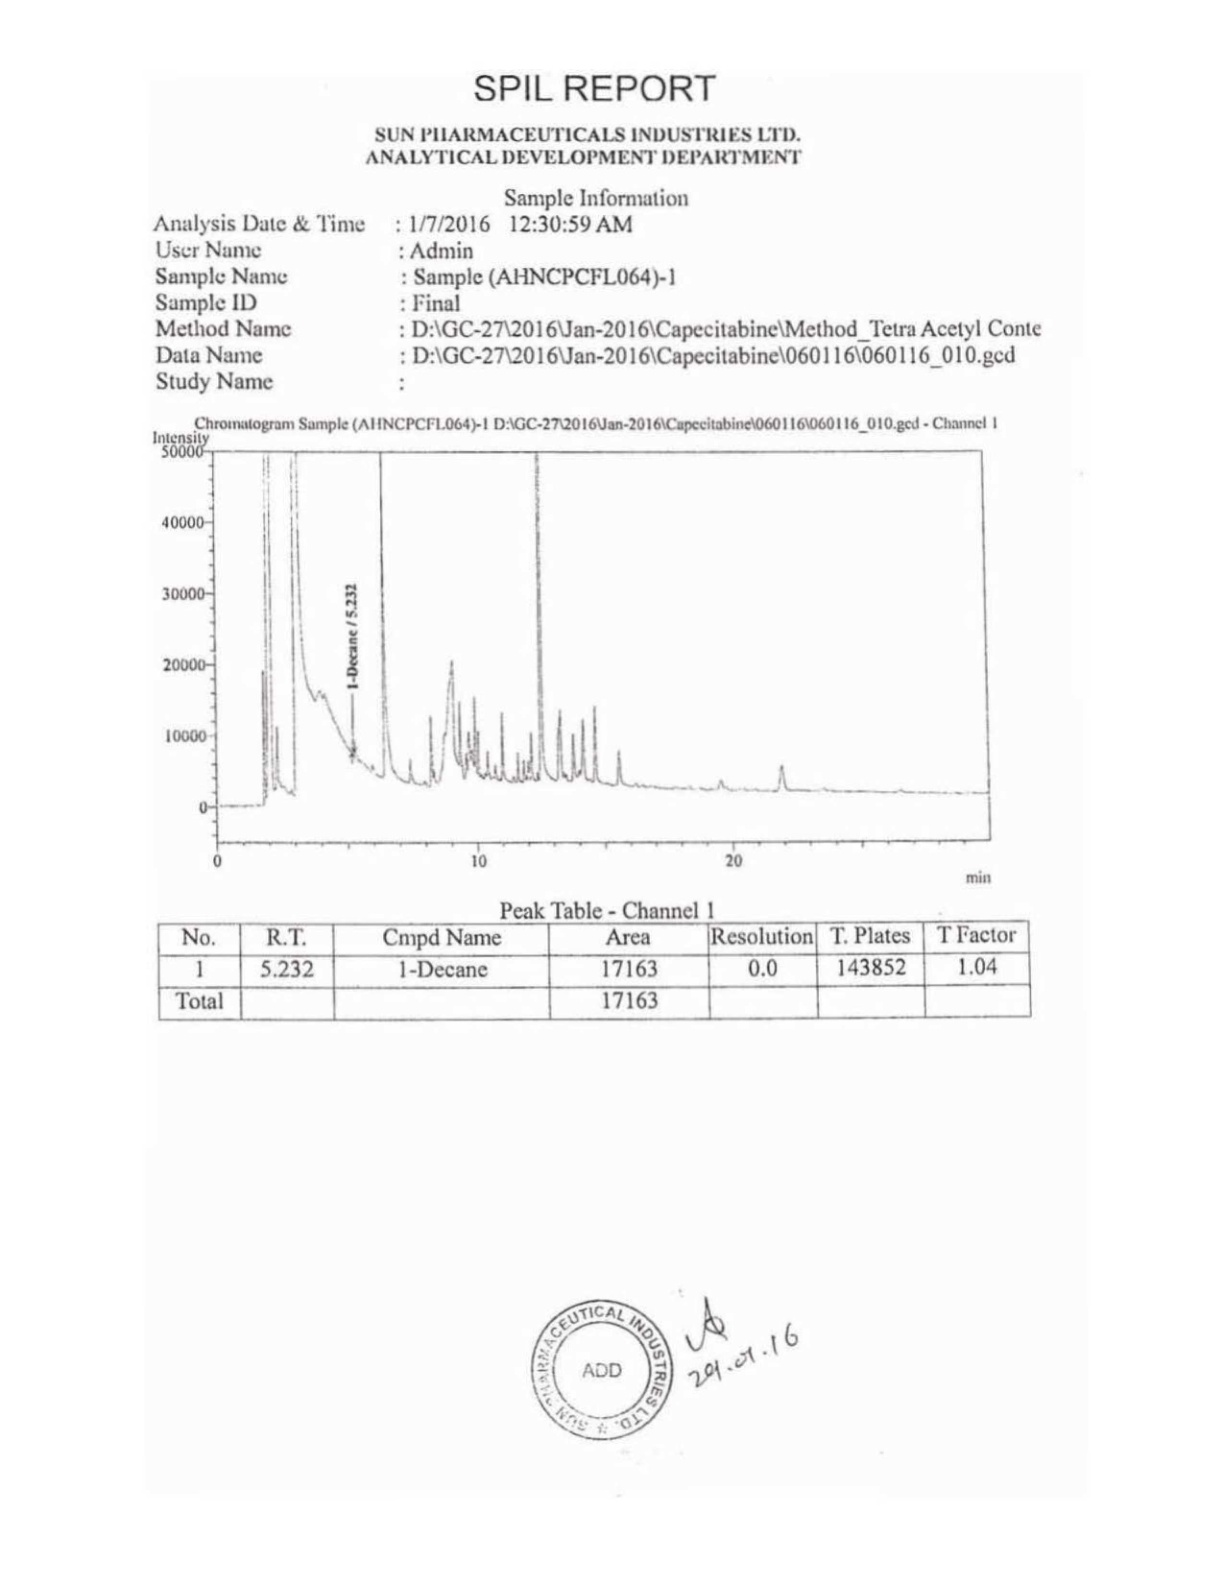full_lined: (156, 919, 1032, 1023)
nolines: (150, 212, 1045, 396)
